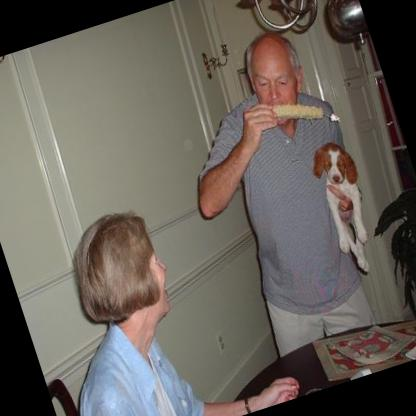Brittany_spaniel: (302, 132, 388, 278)
